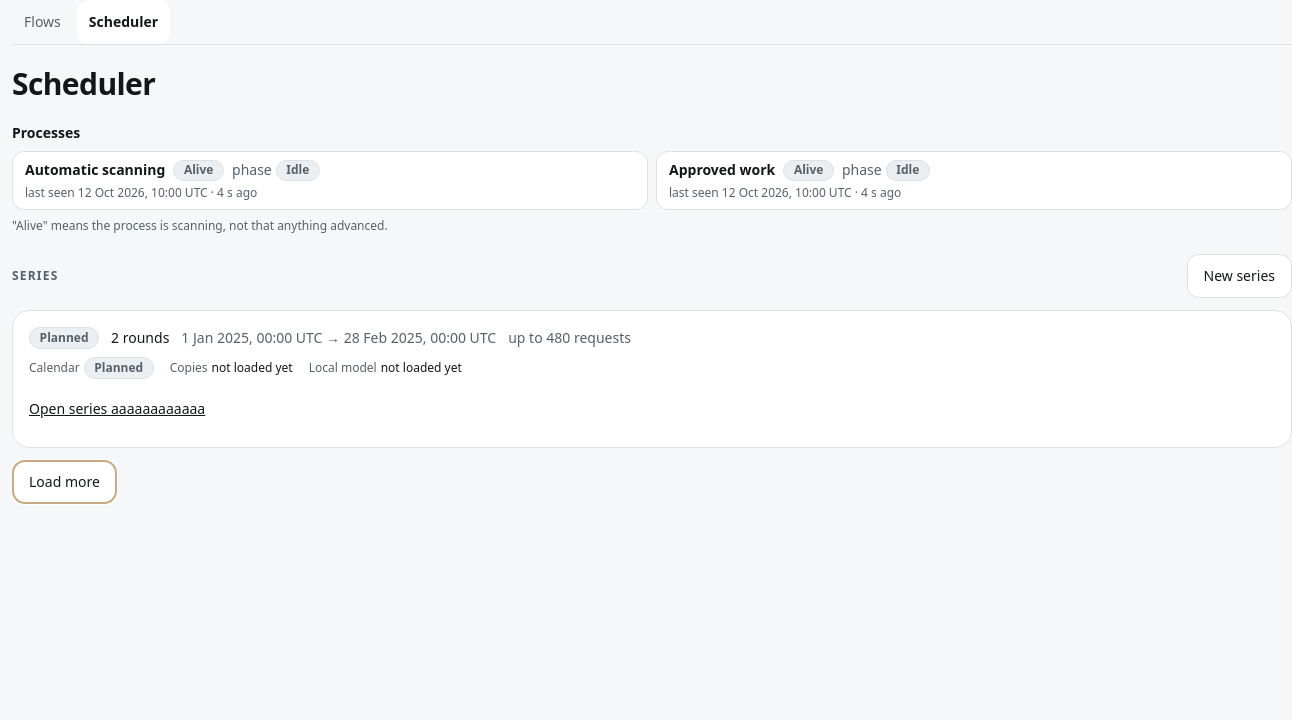
Test: Scheduler index focus › moves focus to the series list when Load more disappears
Click the button "Load more" at (64, 482), box [12,460,117,504]
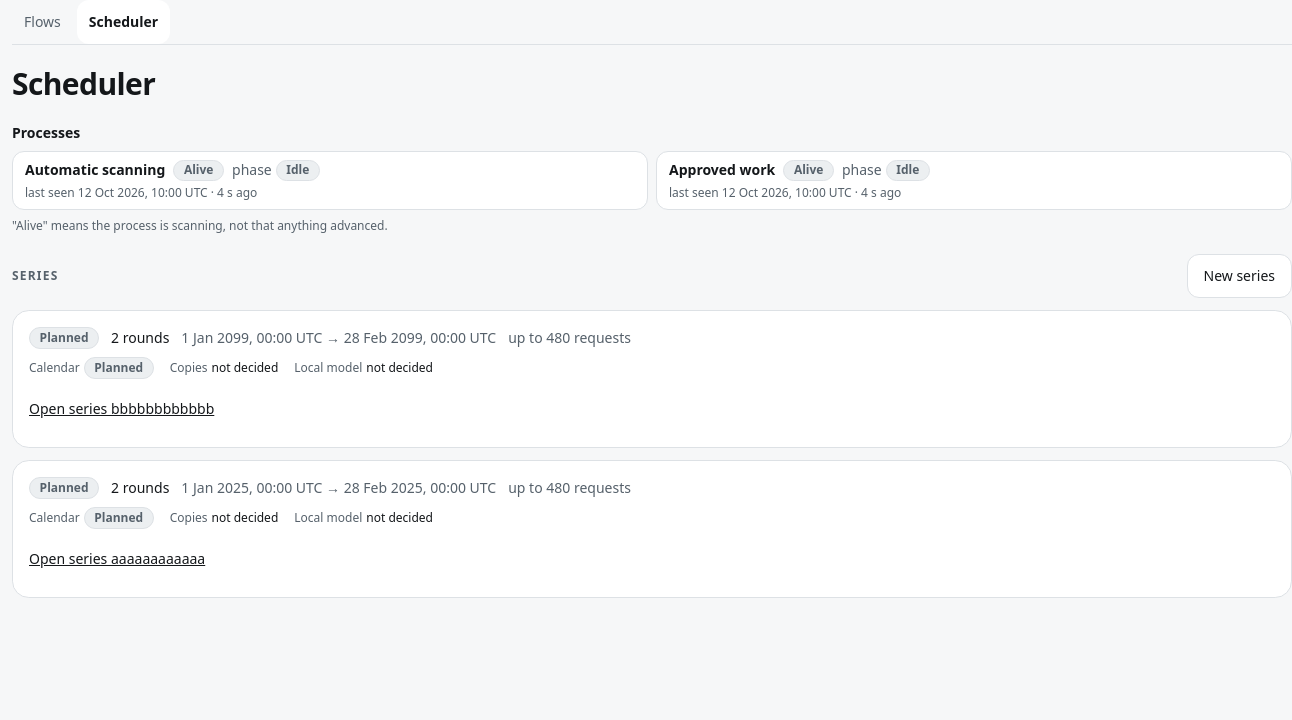
Now the button "Load more" is gone
